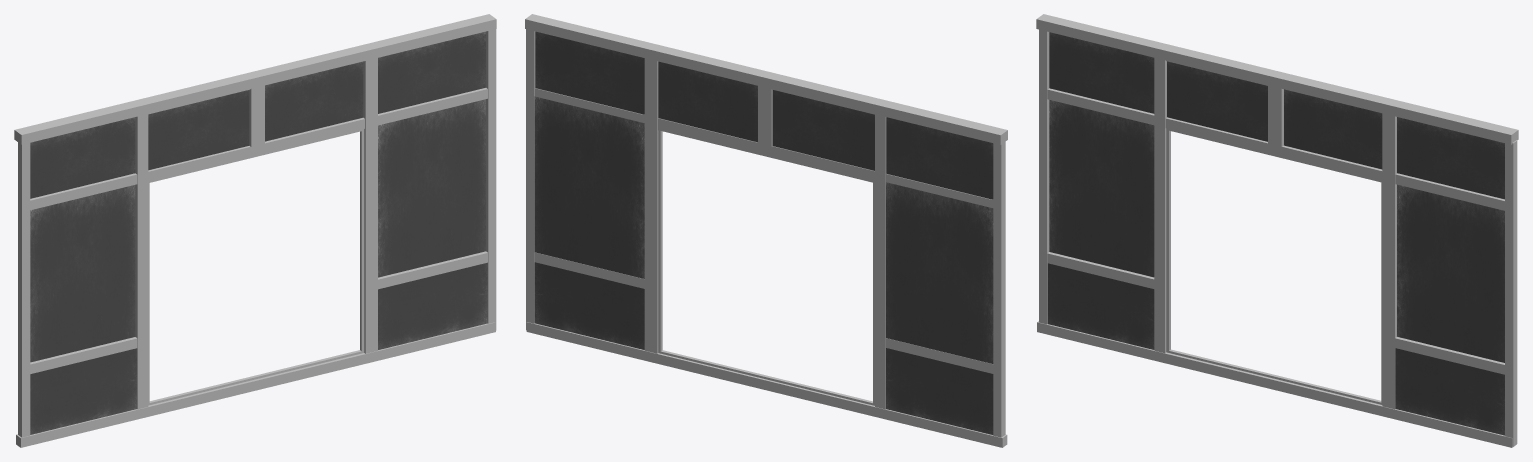
The model's file is shop_f_goods01.fbx.
The picture shows the model from 3 angles, left to right: view 1: azimuth 30°, elevation 25°; view 2: azimuth 150°, elevation 25°; view 3: azimuth 330°, elevation 25°; orthographic projection.
Parts seen in each view (by area): view 1: shop_f_goods01; view 2: shop_f_goods01; view 3: shop_f_goods01.
Part boxes in pixels (box(x1,y1,x2,y2)): shop_f_goods01: box(14, 14, 496, 447); shop_f_goods01: box(525, 14, 1007, 447); shop_f_goods01: box(1036, 14, 1518, 447).
Size of the model in its own units: 5.41 by 3.41 by 0.1403.
